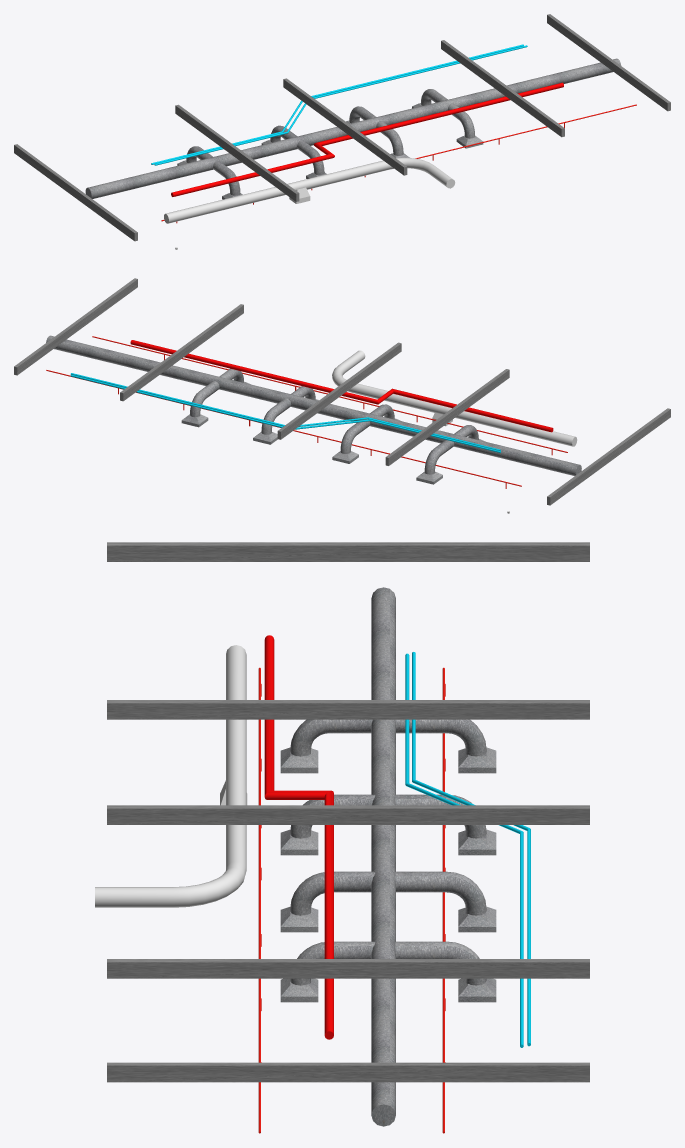
The model's file is ISELF_Utiils2.FBX.
The picture shows the model from 3 angles, top to bottom: view 1: azimuth 30°, elevation 25°; view 2: azimuth 150°, elevation 25°; view 3: azimuth 270°, elevation 25°; orthographic projection. The views are drawn at different scales.
Visible parts, largest first — view 1: HVAC_Supply, Strcture, HVAC_Return, Compressed Air, Water, Fire Suppression001; view 2: HVAC_Supply, Strcture, HVAC_Return, Compressed Air, Water, Fire Suppression001; view 3: Strcture, HVAC_Supply, HVAC_Return, Compressed Air, Water, Fire Suppression001.
Part boxes in pixels (box(x1,y1,x2,y2)): HVAC_Supply: box(85, 58, 621, 199); Strcture: box(14, 14, 670, 241); HVAC_Return: box(164, 157, 455, 223); Compressed Air: box(171, 82, 563, 196); Water: box(151, 44, 527, 165); Fire Suppression001: box(161, 104, 636, 223); HVAC_Supply: box(46, 335, 581, 484); Strcture: box(14, 278, 670, 505); HVAC_Return: box(332, 350, 577, 446); Compressed Air: box(130, 340, 553, 432); Water: box(70, 373, 500, 452); Fire Suppression001: box(46, 336, 567, 488); Strcture: box(107, 542, 589, 1082); HVAC_Supply: box(280, 587, 496, 1126); HVAC_Return: box(95, 645, 247, 907); Compressed Air: box(264, 635, 333, 1039); Water: box(405, 652, 530, 1047); Fire Suppression001: box(258, 667, 445, 1133).
Size of the model in its own units: 1325 by 195 by 514.
Materials: 5 (2 with a texture image).
